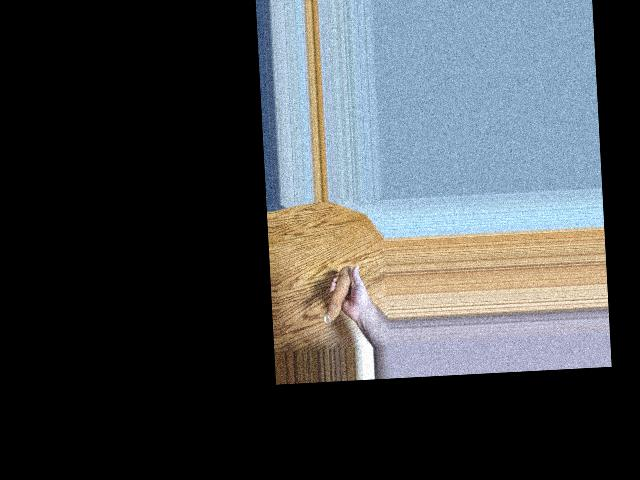sweet_potato: (321, 263, 353, 323)
